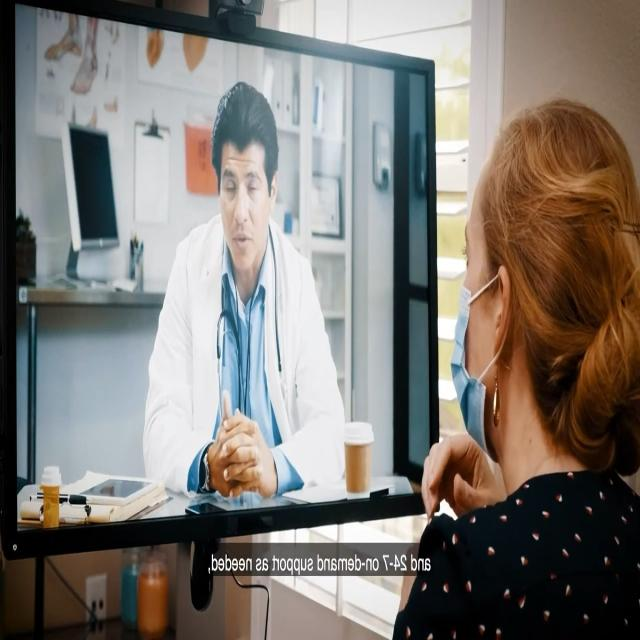Doctor: (140, 71, 312, 512)
Patient: (420, 80, 640, 589)
